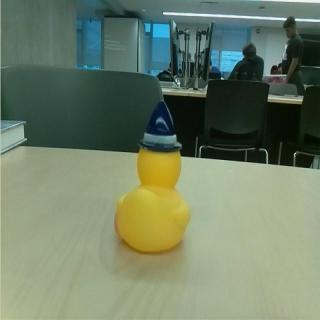duck_specialty: (113, 100, 193, 255)
